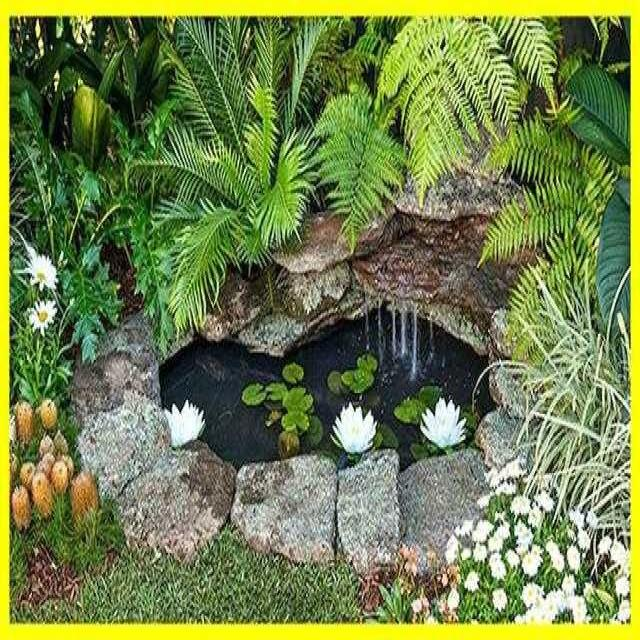Ponds: (76, 166, 543, 571)
